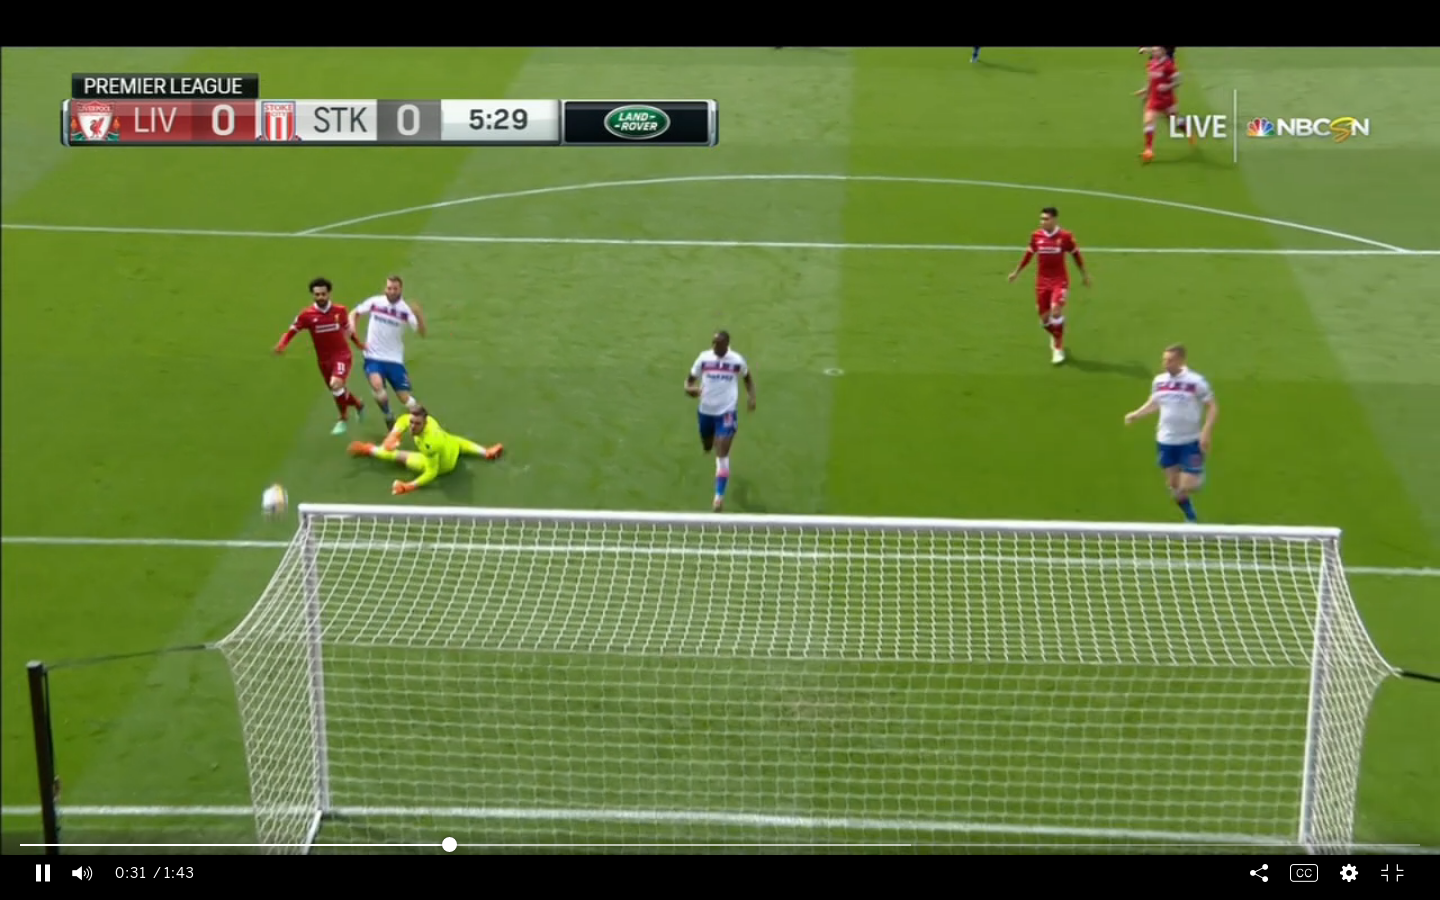soccer player: (1124, 340, 1230, 523), (681, 331, 765, 508), (268, 277, 362, 434), (1008, 206, 1096, 371), (350, 408, 505, 494), (355, 274, 427, 423), (1118, 52, 1213, 159)
soccerball: (258, 480, 293, 525)
